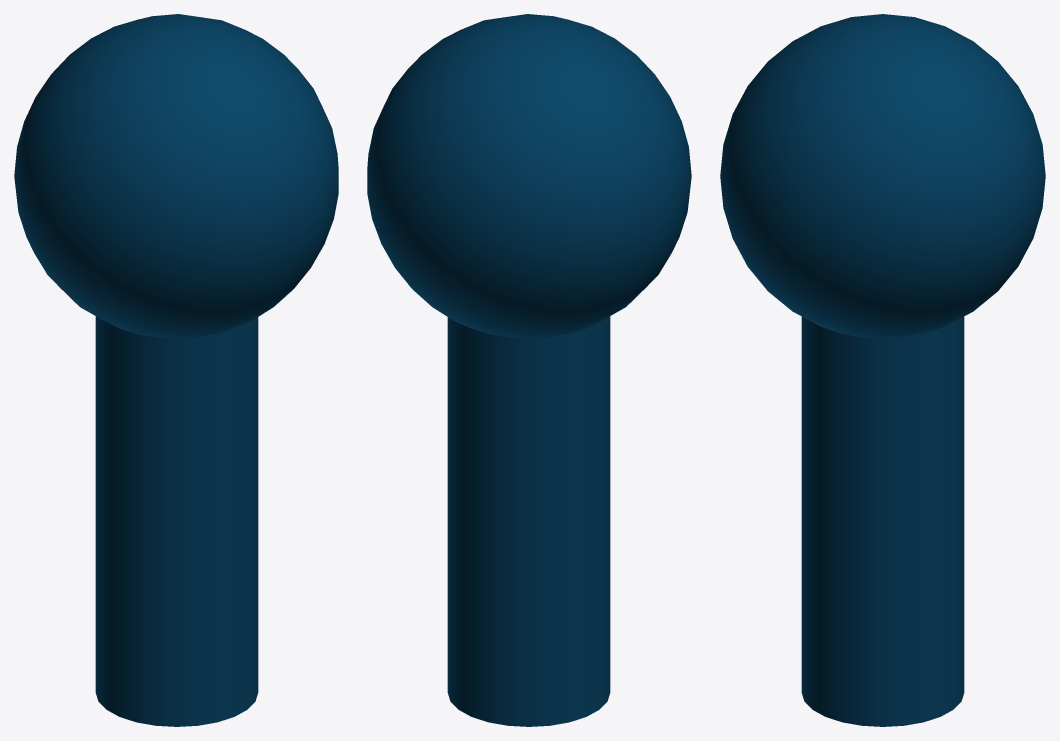
The model's file is bs-ball.glb.
The picture shows the model from 3 angles, left to right: view 1: azimuth 30°, elevation 25°; view 2: azimuth 150°, elevation 25°; view 3: azimuth 270°, elevation 25°; orthographic projection.
Parts seen in each view (by area): view 1: Body1; view 2: Body1; view 3: Body1.
Part boxes in pixels (x1,y1,x2,y2): Body1: [14, 14, 338, 726]; Body1: [367, 14, 691, 726]; Body1: [720, 14, 1045, 726].
Bounding box in the file's own units: 0.0199 × 0.045 × 0.02.
